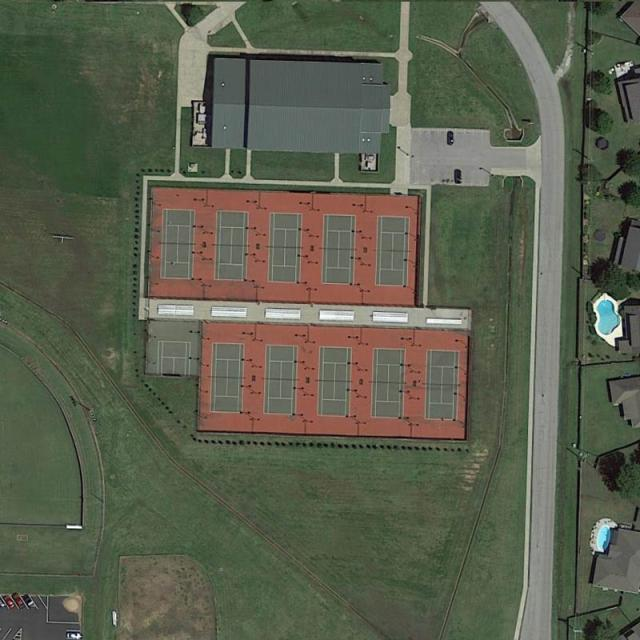vehicle: (2, 594, 15, 610), (22, 594, 35, 609), (11, 593, 23, 609), (446, 130, 454, 146), (454, 169, 462, 184), (66, 633, 83, 638)
